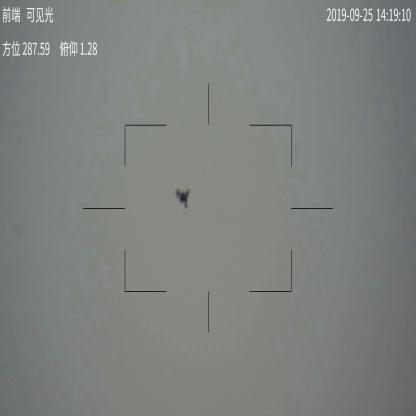uav: (174, 186, 190, 209)
